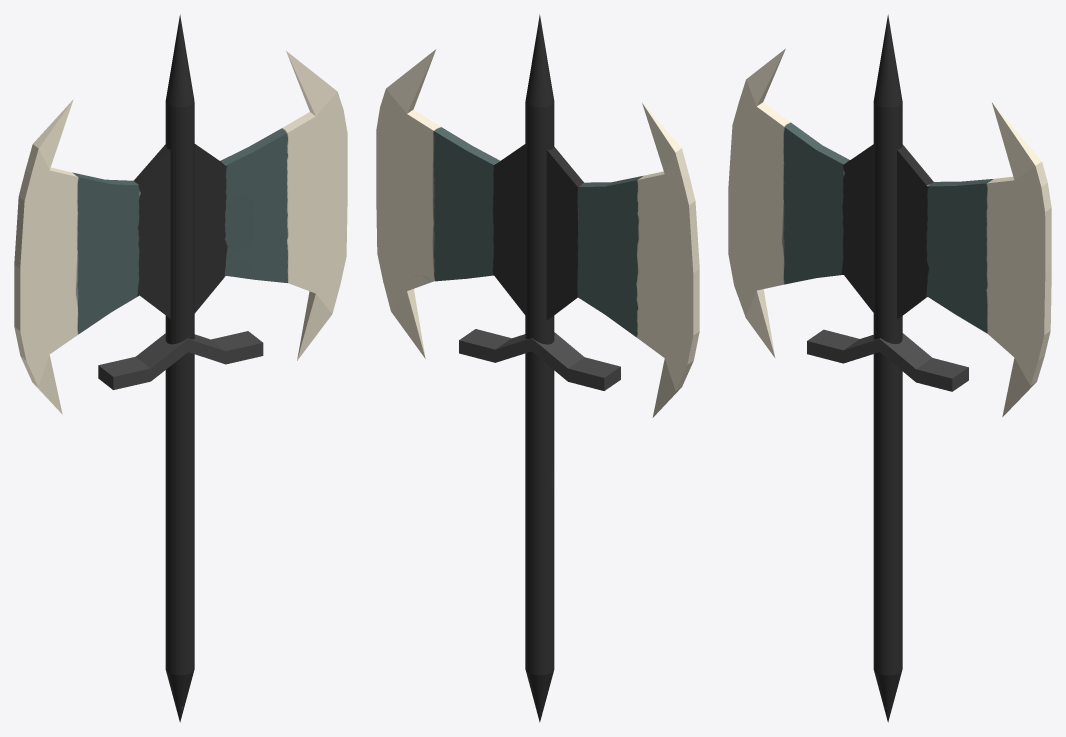
Rendered from tomahawk.obj.
3 views of the same model, side by side, from view 1: azimuth 30°, elevation 25°; view 2: azimuth 150°, elevation 25°; view 3: azimuth 330°, elevation 25° (orthographic).
Parts seen in each view (by area): view 1: 円柱.002; view 2: 円柱.002; view 3: 円柱.002.
Part boxes in pixels (x1=…): 円柱.002: x1=14, y1=14, x2=347, y2=722; 円柱.002: x1=376, y1=14, x2=699, y2=722; 円柱.002: x1=728, y1=14, x2=1051, y2=722.
Bounding box in the file's own units: 1.22 × 2.57 × 0.1194.
Materials: 1 (1 with a texture image).
